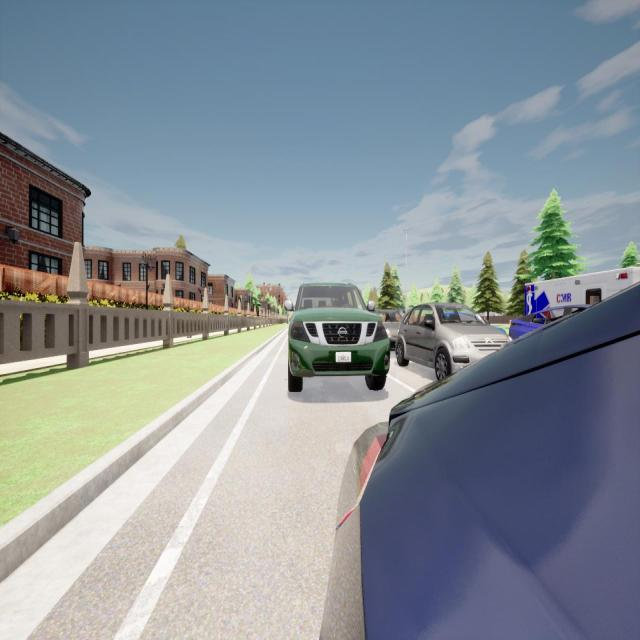Vehicle: (320, 283, 640, 638), (282, 279, 389, 390), (396, 303, 509, 377), (524, 268, 640, 316), (508, 305, 596, 338), (444, 308, 509, 334), (369, 309, 401, 347)
